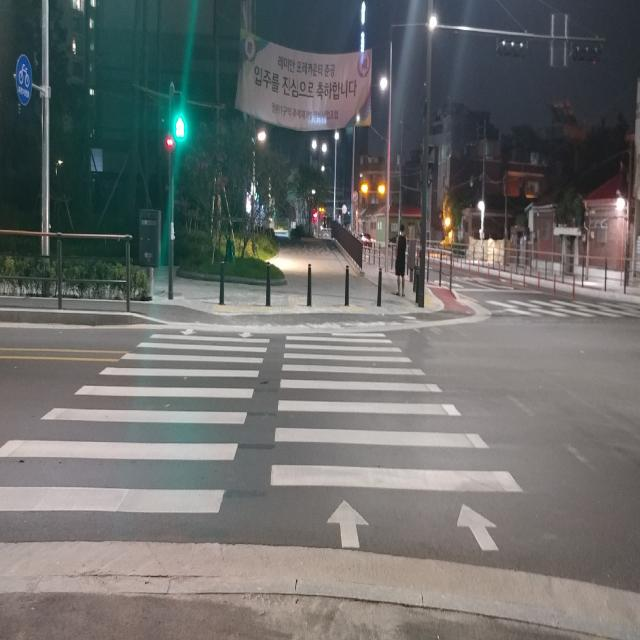초록불: (174, 91, 187, 140)
횡단보도: (0, 331, 524, 552), (474, 296, 640, 319)
